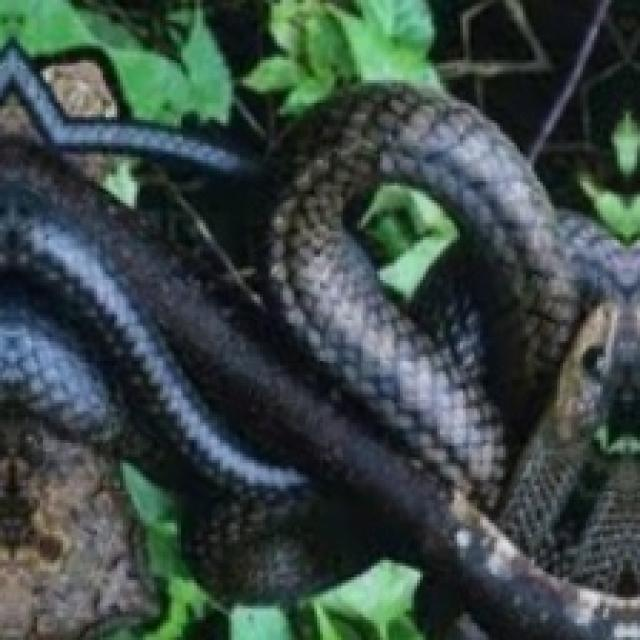smooth-scaled mountain rat snake: (0, 46, 637, 637)
